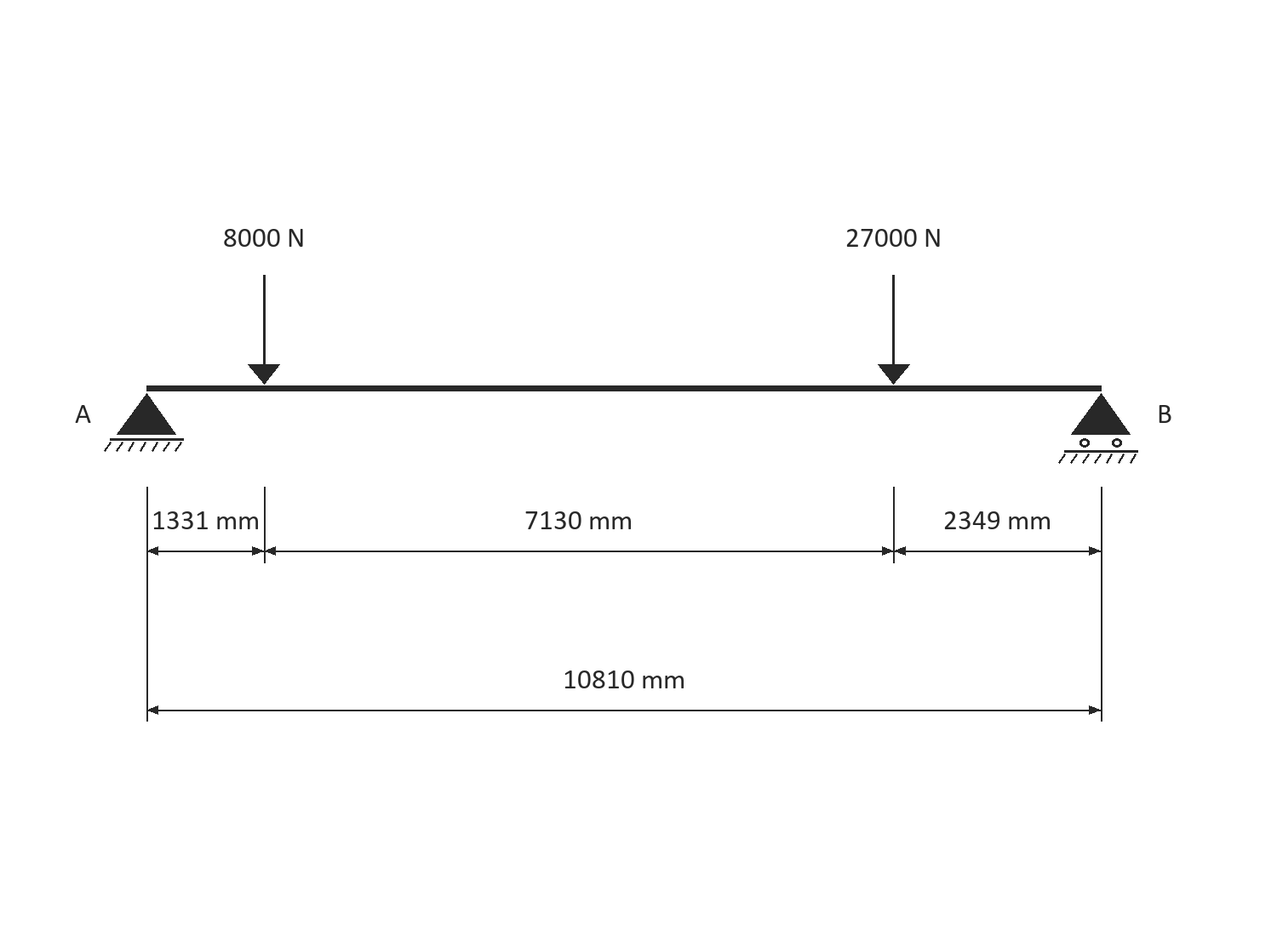pin_support: (104, 393, 184, 452)
point_load: (248, 275, 280, 385), (878, 275, 910, 385)
roller_support: (1058, 393, 1138, 464)
